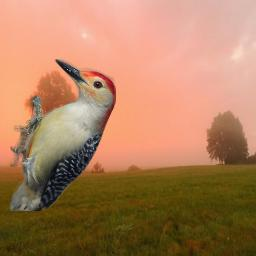Woodpecker: (10, 59, 116, 211)
